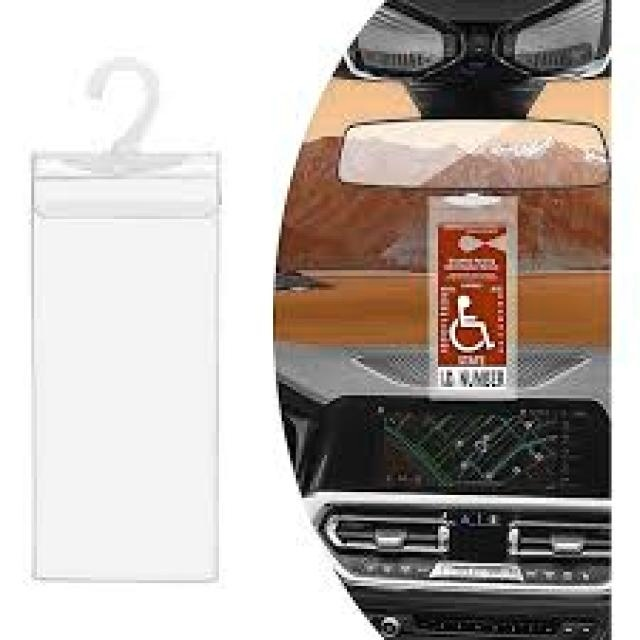ISA: (449, 292, 495, 352)
